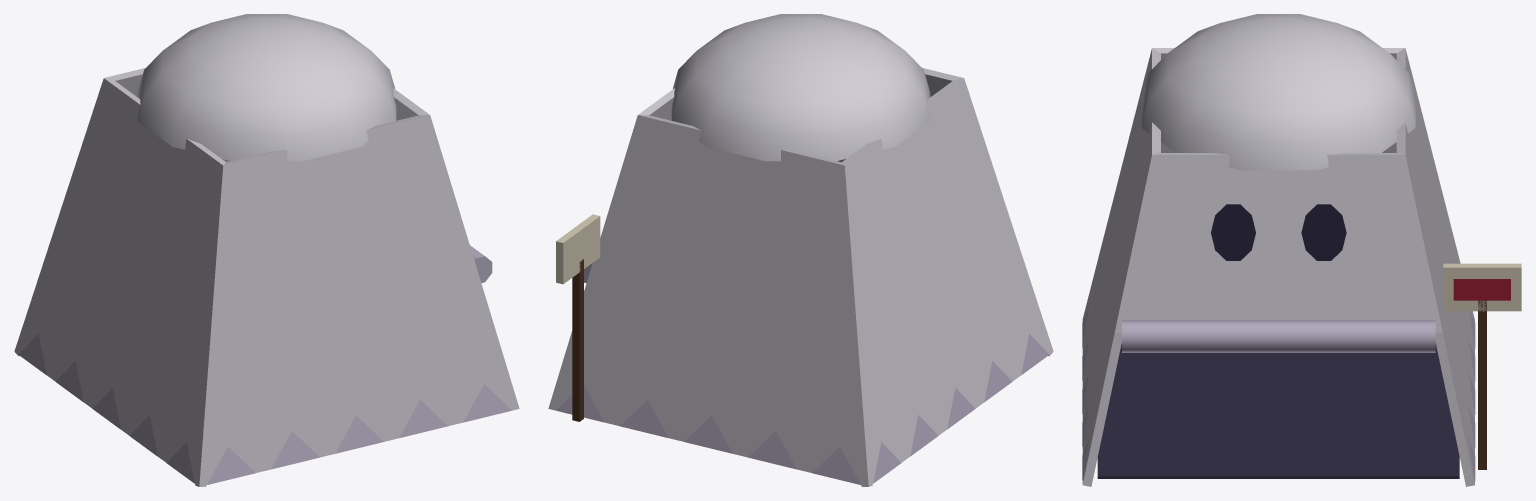
The model's file is museum-hide.glb.
3 renders of one model, left to right at view 1: azimuth 30°, elevation 25°; view 2: azimuth 150°, elevation 25°; view 3: azimuth 270°, elevation 25°, orthographic. The views are drawn at different scales.
Visible parts, largest first — view 1: museum-hide; view 2: museum-hide; view 3: museum-hide.
Part boxes in pixels (x1,y1,x2,y2): museum-hide: (14,14,519,486); museum-hide: (548,14,1053,486); museum-hide: (1082,14,1521,486).
Size of the model in its own units: 1.3 by 1.36 by 1.46.
